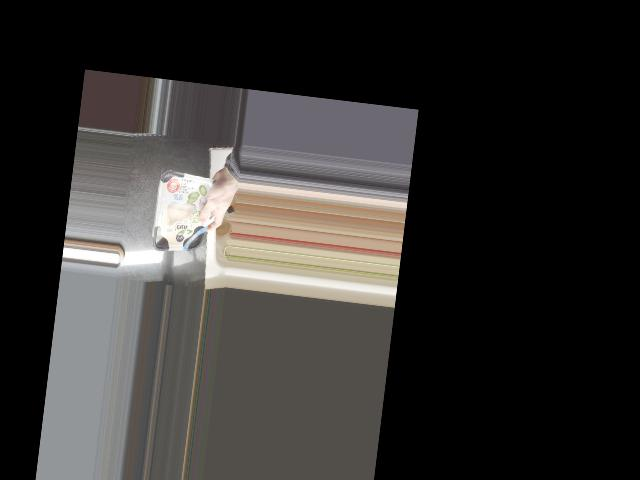cheese: (151, 169, 220, 255)
